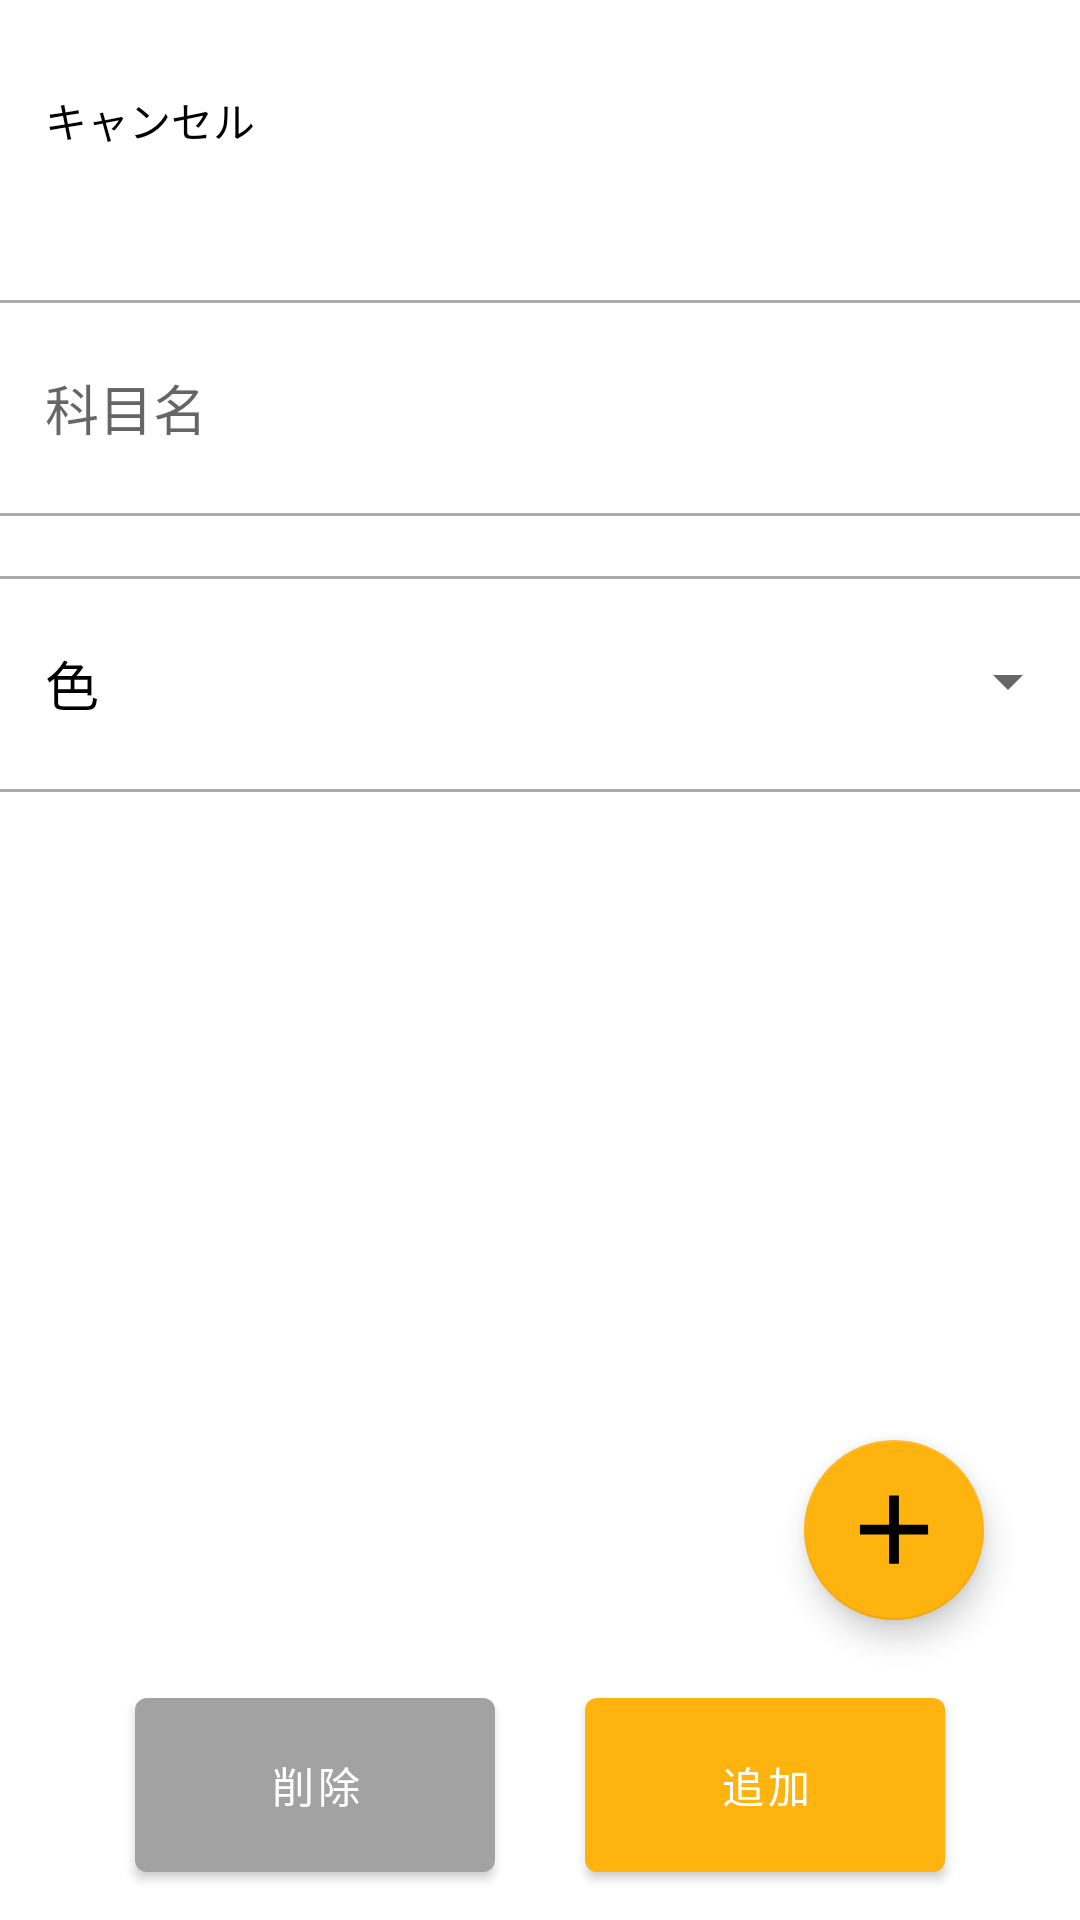

Named icons in this screenshot (1080*1920) and their bounding boxes, detection(x1, y1, x2, y2):
plus: detection(804, 1440, 984, 1620)
